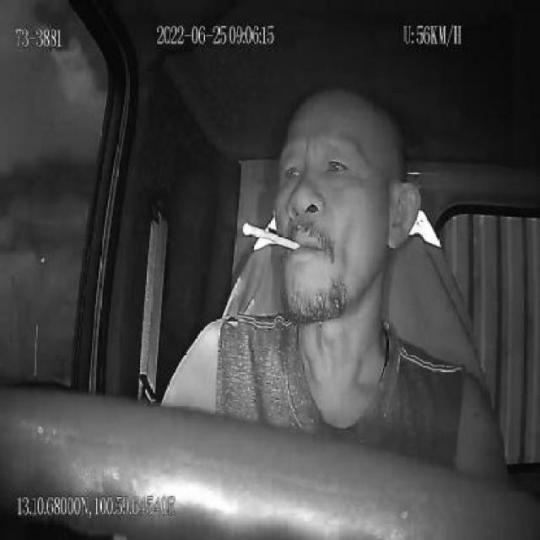smoking: (241, 217, 302, 251)
